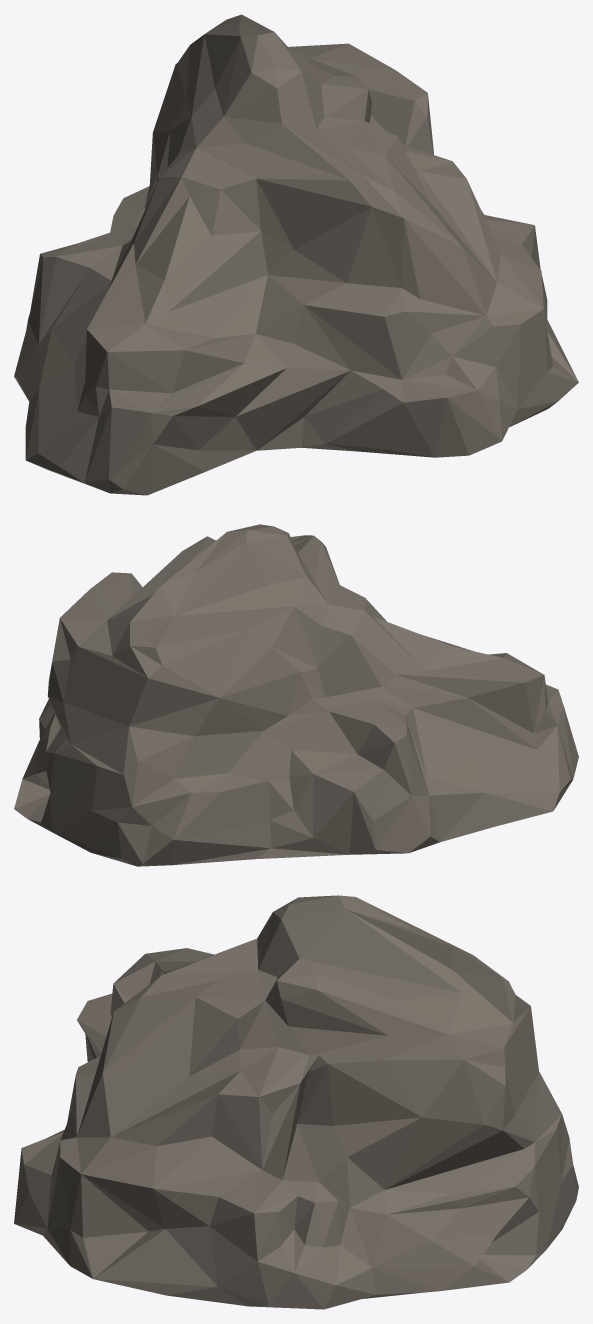
Rendered from SM_Env_Rock_Huge_02.glb.
3 renders of one model, top to bottom at view 1: azimuth 30°, elevation 25°; view 2: azimuth 150°, elevation 25°; view 3: azimuth 270°, elevation 25°, orthographic. The views are drawn at different scales.
Parts seen in each view (by area): view 1: SM_Env_Rock_Huge_02; view 2: SM_Env_Rock_Huge_02; view 3: SM_Env_Rock_Huge_02.
Part boxes in pixels (left/top/right/bottom): SM_Env_Rock_Huge_02: left=14, top=14, right=578, bottom=495; SM_Env_Rock_Huge_02: left=14, top=524, right=578, bottom=866; SM_Env_Rock_Huge_02: left=14, top=895, right=578, bottom=1309.
Bounding box in the file's own units: 0.334 × 0.182 × 0.3071.
Materials: 1 (1 with a texture image).
